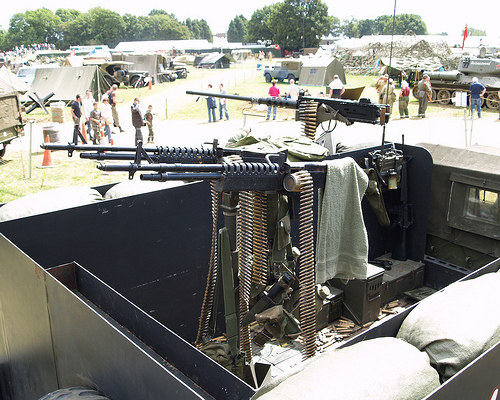rifle: (37, 132, 422, 324), (151, 65, 400, 130)
